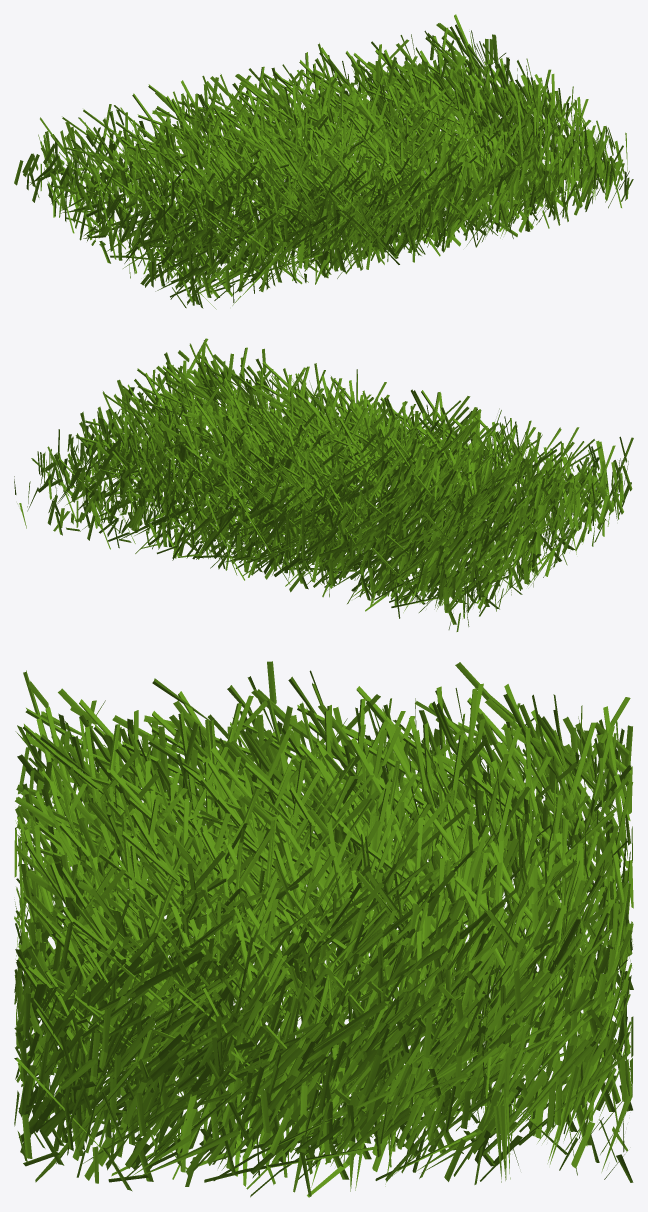
The model's file is grass-block.glb.
3 renders of one model, top to bottom at view 1: azimuth 30°, elevation 25°; view 2: azimuth 150°, elevation 25°; view 3: azimuth 270°, elevation 25°, orthographic. The views are drawn at different scales.
Parts seen in each view (by area): view 1: Node1; view 2: Node1; view 3: Node1.
Boxes of the visible parts, x1,y1,x2,y2 form: Node1: (14,14,633,309); Node1: (14,338,633,631); Node1: (14,661,633,1197).
Bounding box in the file's own units: 13.35 × 2.09 × 8.64.
